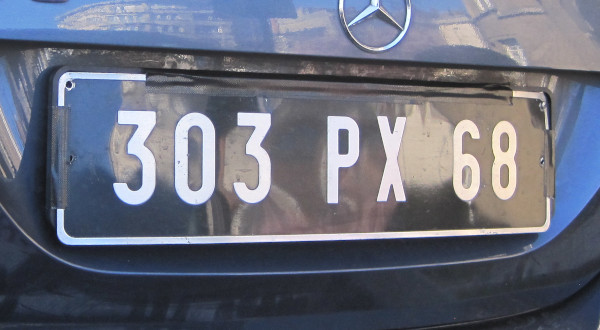license_plate: (52, 69, 555, 244)
